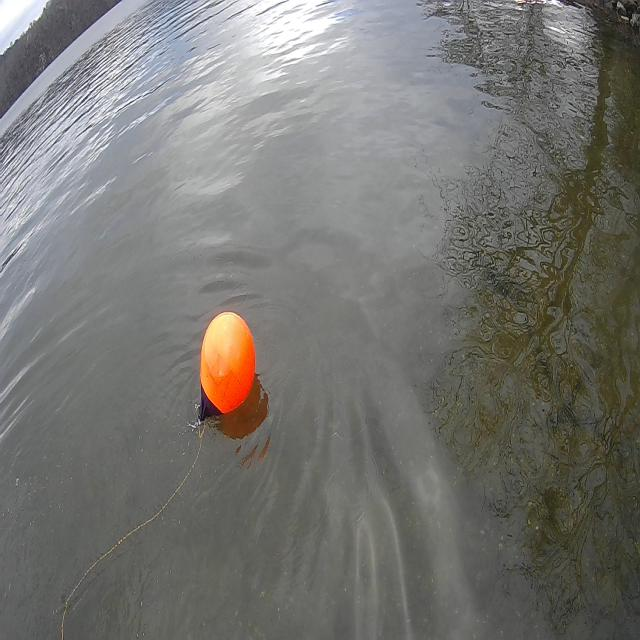Buoy: (192, 304, 262, 439)
